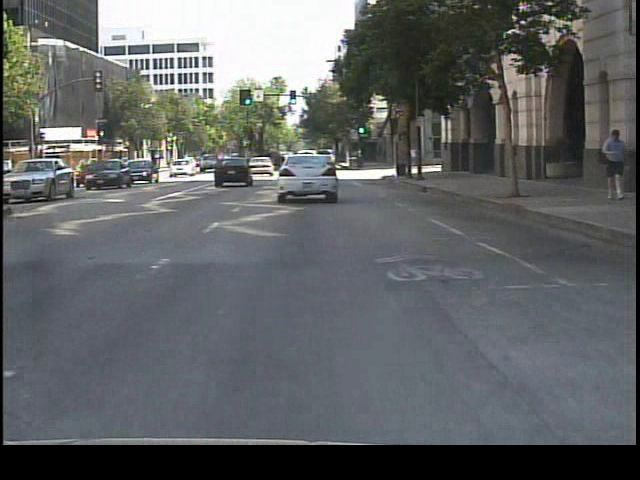person: (597, 123, 628, 202)
